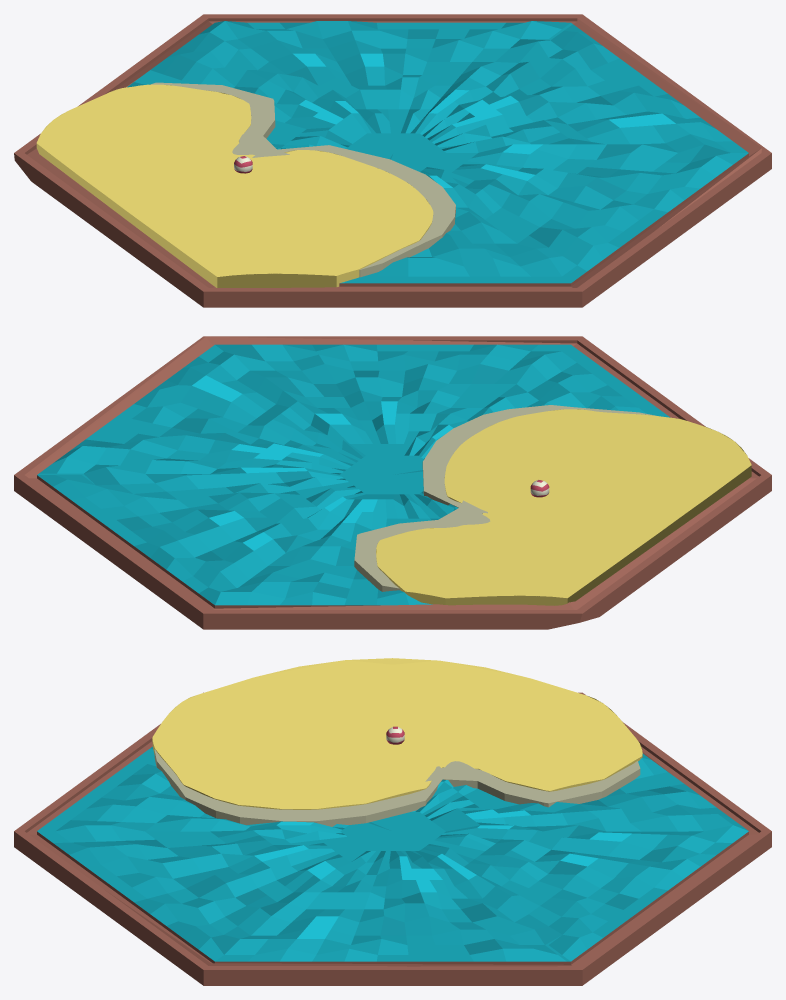
Rendered from Hexagon_Beach.glb.
3 views of the same model, one above another, from view 1: azimuth 30°, elevation 25°; view 2: azimuth 150°, elevation 25°; view 3: azimuth 270°, elevation 25° (orthographic).
Parts seen in each view (by area): view 1: Circle, Plane, Plane.001; view 2: Circle, Plane, Plane.001; view 3: Circle, Plane, Plane.001.
Boxes of the visible parts, box(x1,y1,x2,y2) form: Circle: box(14, 14, 771, 307); Plane: box(36, 84, 433, 287); Plane.001: box(150, 82, 455, 277); Circle: box(14, 336, 771, 629); Plane: box(376, 409, 751, 605); Plane.001: box(354, 405, 656, 591); Circle: box(14, 692, 771, 985); Plane: box(152, 658, 642, 809); Plane.001: box(154, 749, 640, 826).
Size of the model in its own units: 30.53 by 2.38 by 34.84.
1 material, 1 textured.
